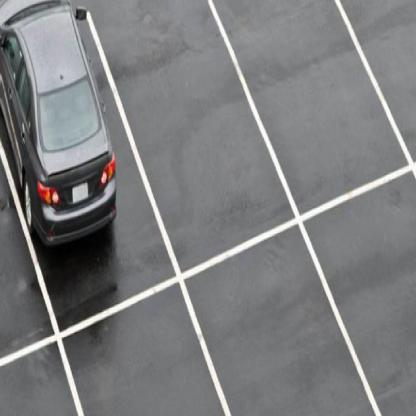Car: (32, 23, 85, 216), (376, 5, 410, 100)
Empty: (142, 31, 232, 203), (271, 27, 354, 201), (233, 306, 312, 403), (362, 226, 408, 352), (134, 310, 175, 388), (2, 265, 38, 319), (27, 362, 53, 393)
